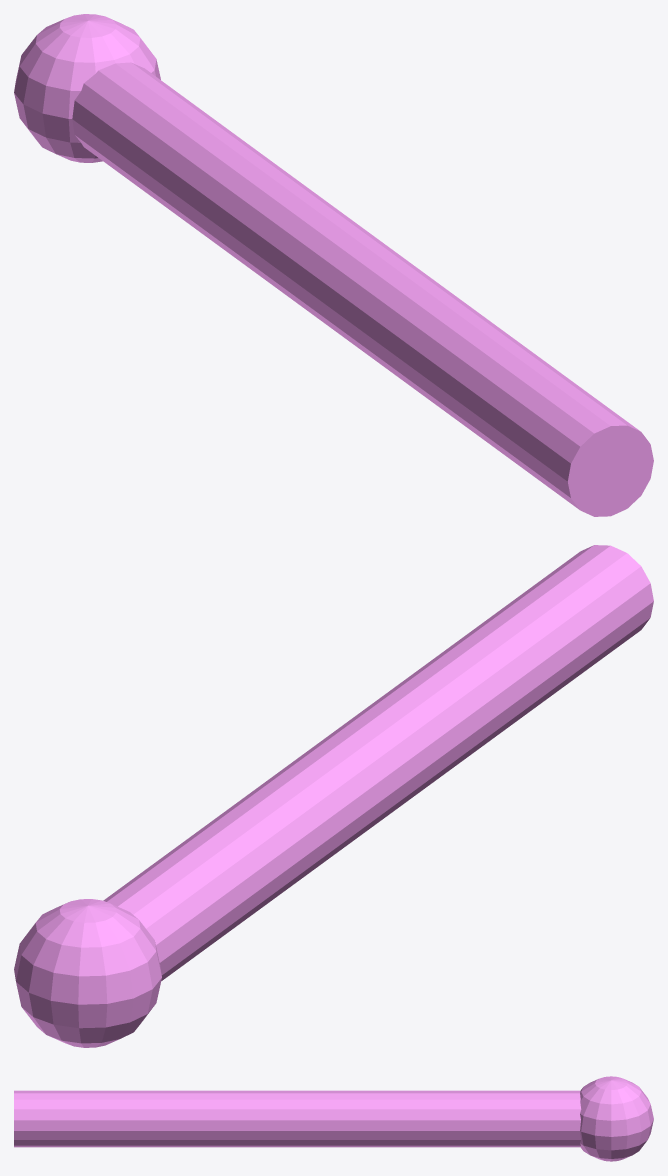
The model's file is tongue.fbx.
3 views of the same model, one above another, from view 1: azimuth 30°, elevation 25°; view 2: azimuth 150°, elevation 25°; view 3: azimuth 270°, elevation 25° (orthographic). The views are drawn at different scales.
Visible parts, largest first — view 1: 구체; view 2: 구체; view 3: 구체.
Part boxes in pixels (x1,y1,x2,y2): 구체: (14, 14, 653, 516); 구체: (14, 545, 653, 1047); 구체: (14, 1076, 653, 1161).
Bounding box in the file's own units: 30 × 30 × 225.
